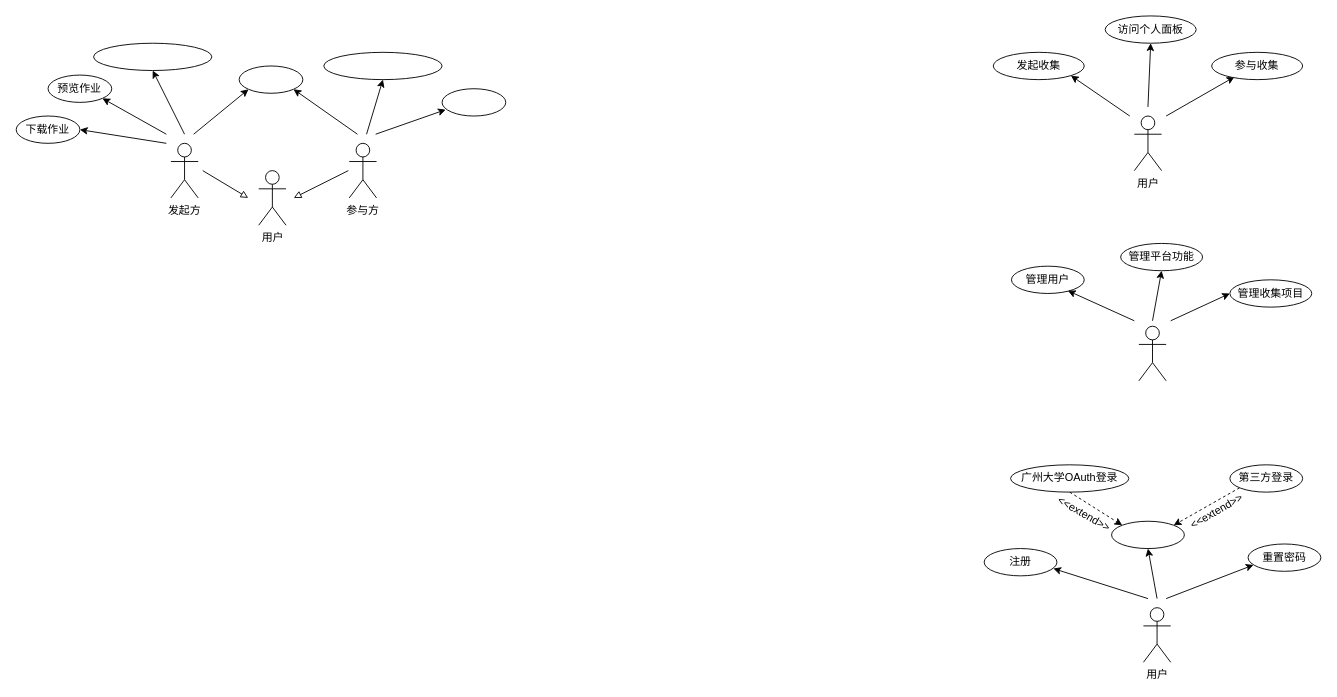
Some shapes in this 1337 by 697 pixel diagram are drawn without their labels. The centre of each missing label's shape, as x and y in pixels:
公开作业: point 473,102
创建作业收集项目: point 152,56
参与作业收集项目: point 382,65
登录: point 1147,534
管理员: point 1152,353
评分与评论: point 270,79
